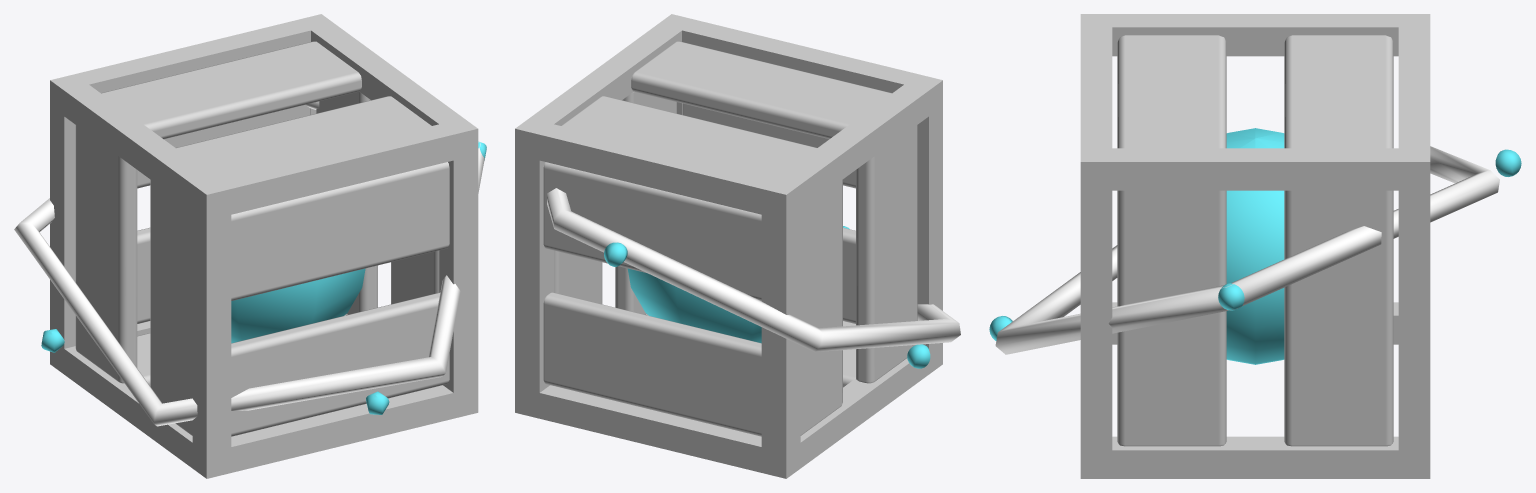
File: ReactorCube.glb
3 renders of one model, left to right at view 1: azimuth 30°, elevation 25°; view 2: azimuth 150°, elevation 25°; view 3: azimuth 270°, elevation 25°, orthographic. The views are drawn at different scales.
Parts seen in each view (by area): view 1: Body, Ring, Glow; view 2: Body, Ring, Glow; view 3: Body, Ring, Glow.
Boxes of the visible parts, x1,y1,x2,y2 form: Body: (50, 14, 478, 478); Ring: (14, 101, 484, 426); Glow: (41, 141, 486, 414); Body: (515, 14, 942, 478); Ring: (547, 188, 960, 351); Glow: (604, 226, 930, 368); Body: (1080, 14, 1430, 478); Ring: (995, 146, 1499, 354); Glow: (989, 128, 1521, 364).
Size of the model in its own units: 2.75 by 1.76 by 2.68.
